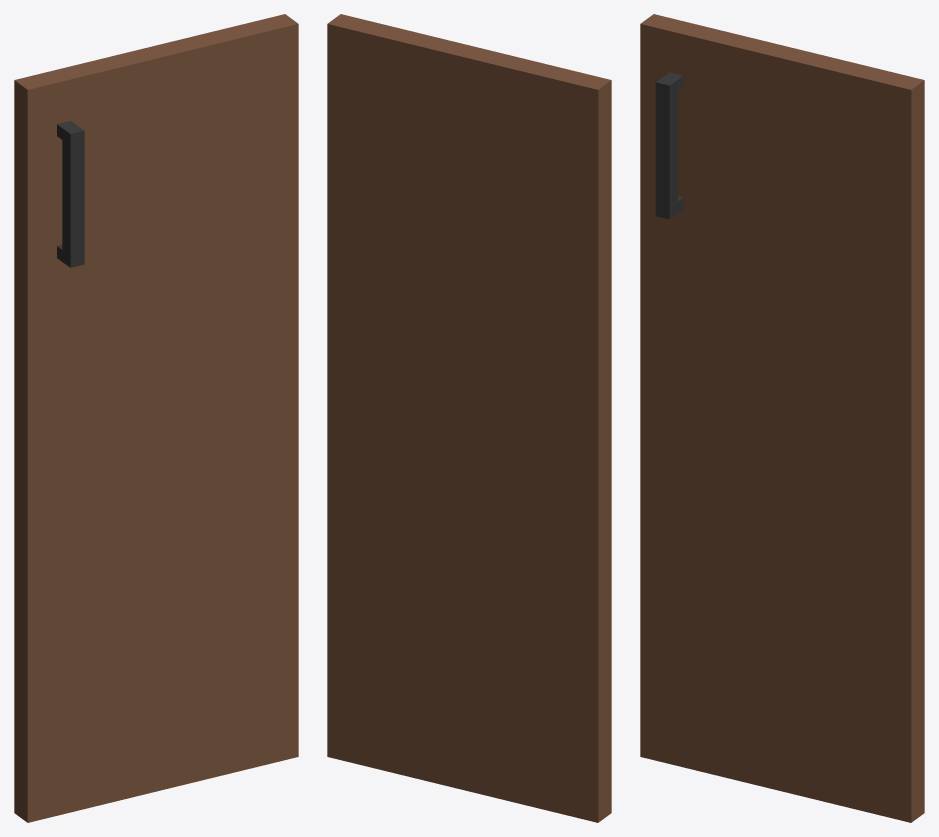
File: Door1_C2_03.fbx
3 views of the same model, side by side, from view 1: azimuth 30°, elevation 25°; view 2: azimuth 150°, elevation 25°; view 3: azimuth 330°, elevation 25° (orthographic).
Visible parts, largest first — view 1: Door1_C2_03; view 2: Door1_C2_03; view 3: Door1_C2_03.
Part boxes in pixels (x1,y1,x2,y2): Door1_C2_03: [14, 14, 298, 822]; Door1_C2_03: [327, 14, 611, 822]; Door1_C2_03: [640, 14, 924, 822].
Size of the model in its own units: 29 by 75 by 5.03.
